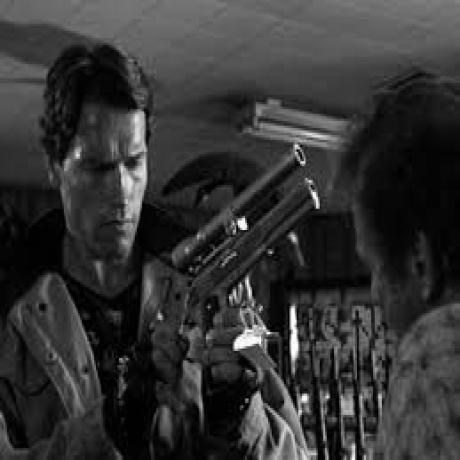Guns: (155, 130, 313, 347)
